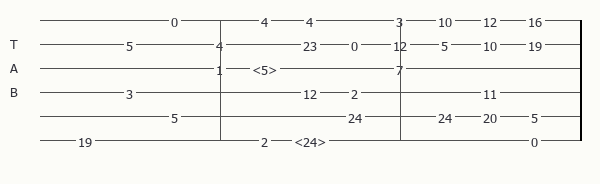0: (171, 14, 182, 27), (351, 38, 362, 51), (531, 134, 542, 147)
1: (216, 62, 227, 75)
10: (438, 14, 456, 27), (483, 38, 501, 51)
11: (483, 86, 501, 99)
12: (303, 86, 321, 99), (393, 38, 411, 51), (483, 14, 501, 27)
16: (528, 14, 546, 27)
19: (78, 134, 96, 147), (528, 38, 546, 51)
2: (261, 134, 272, 147), (351, 86, 362, 99)
20: (483, 110, 501, 123)
23: (303, 38, 321, 51)
24: (348, 110, 366, 123), (438, 110, 456, 123)
3: (126, 86, 137, 99), (396, 14, 407, 27)
4: (216, 38, 227, 51), (261, 14, 272, 27), (306, 14, 317, 27)
5: (126, 38, 137, 51), (171, 110, 182, 123), (441, 38, 452, 51), (531, 110, 542, 123)
7: (396, 62, 407, 75)
harmonic: (294, 134, 330, 147), (252, 62, 281, 75)
